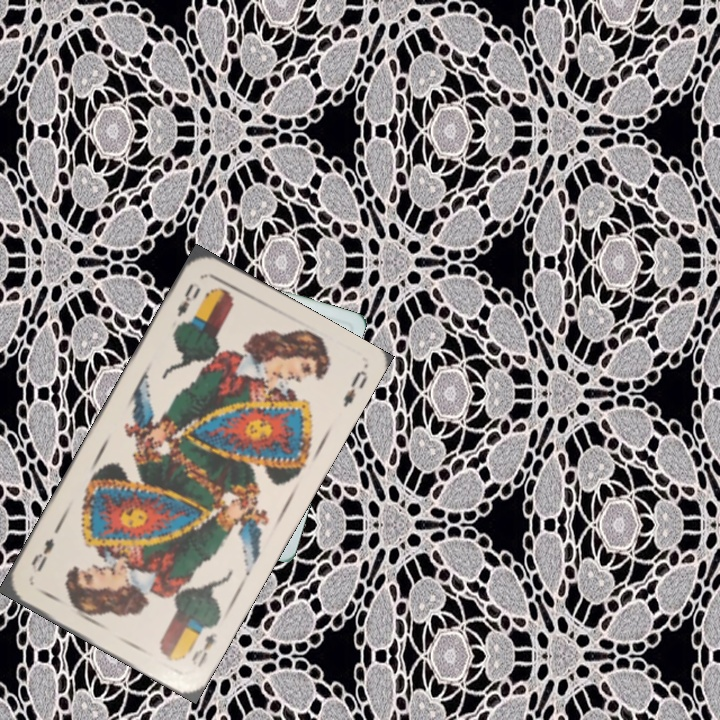EO: (173, 279, 204, 330), (187, 628, 220, 670)
